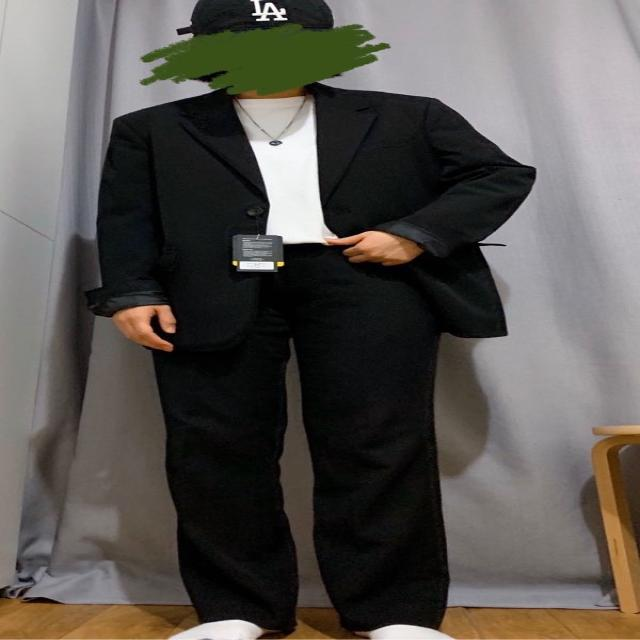blazer: (92, 78, 542, 340)
slacks: (152, 242, 467, 636)
